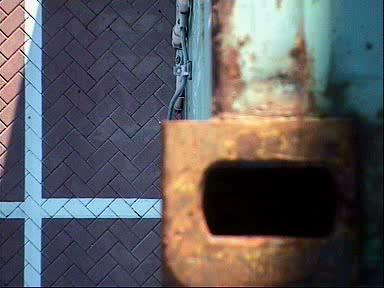groundmarker_2: (264, 32, 315, 71), (262, 166, 313, 205), (268, 1, 315, 33)
